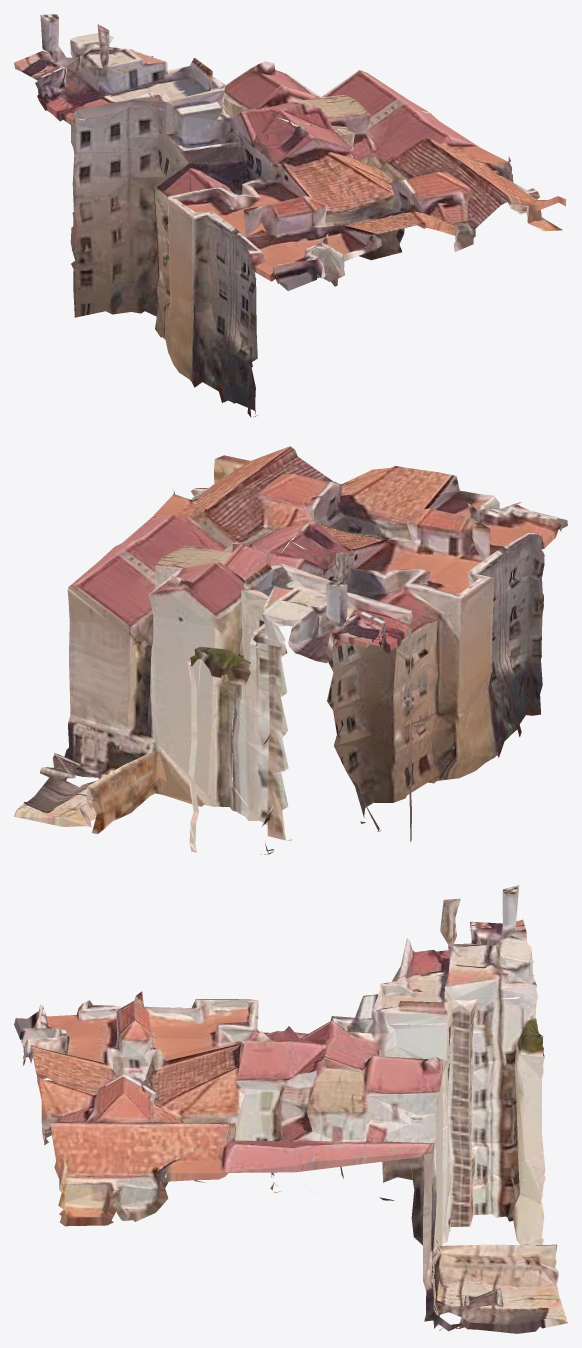
3 renders of one model, top to bottom at view 1: azimuth 30°, elevation 25°; view 2: azimuth 150°, elevation 25°; view 3: azimuth 270°, elevation 25°, orthographic. The views are drawn at different scales.
Parts seen in each view (by area): view 1: Mesh_0; view 2: Mesh_0; view 3: Mesh_0.
Part boxes in pixels (x1,y1,x2,y2): Mesh_0: [14, 14, 566, 417]; Mesh_0: [14, 446, 567, 854]; Mesh_0: [14, 885, 567, 1333].
Size of the model in its own units: 33.35 by 24.86 by 41.62.
2 materials, 2 textured.
